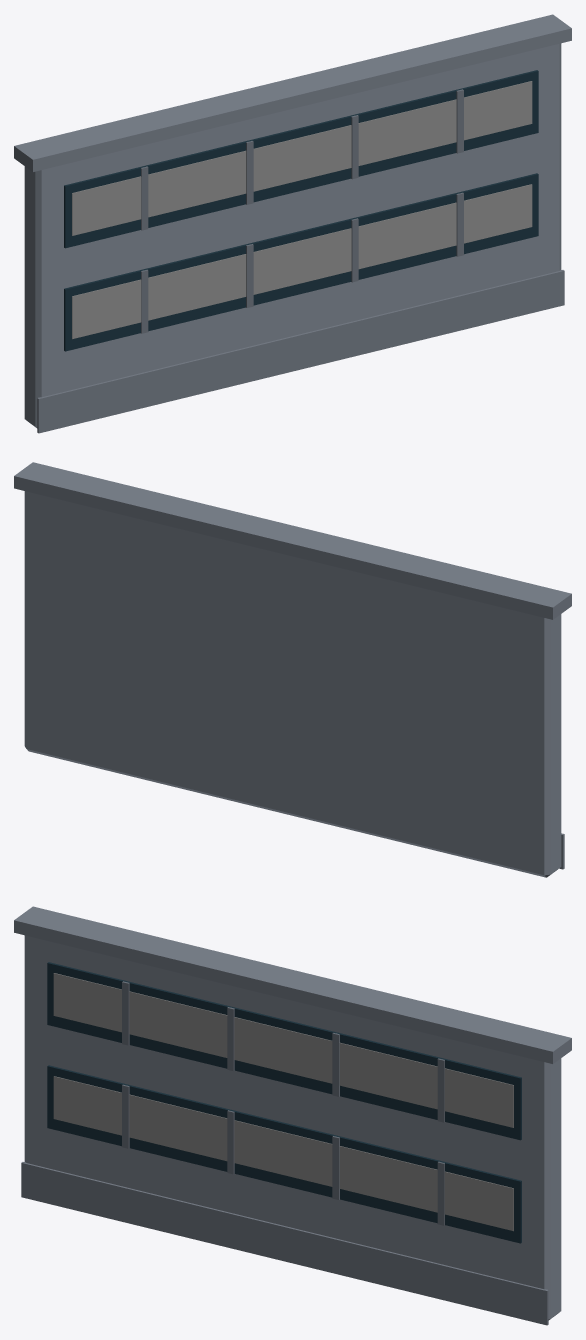
File: bld_wall_a.glb
3 renders of one model, top to bottom at view 1: azimuth 30°, elevation 25°; view 2: azimuth 150°, elevation 25°; view 3: azimuth 330°, elevation 25°, orthographic.
Parts seen in each view (by area): view 1: bld; view 2: bld; view 3: bld.
Boxes of the visible parts, x1=… form: bld: x1=14, y1=14, x2=571, y2=433; bld: x1=14, y1=462, x2=571, y2=877; bld: x1=14, y1=906, x2=571, y2=1325.
Bounding box in the file's own units: 8.2 × 4.01 × 0.51.
